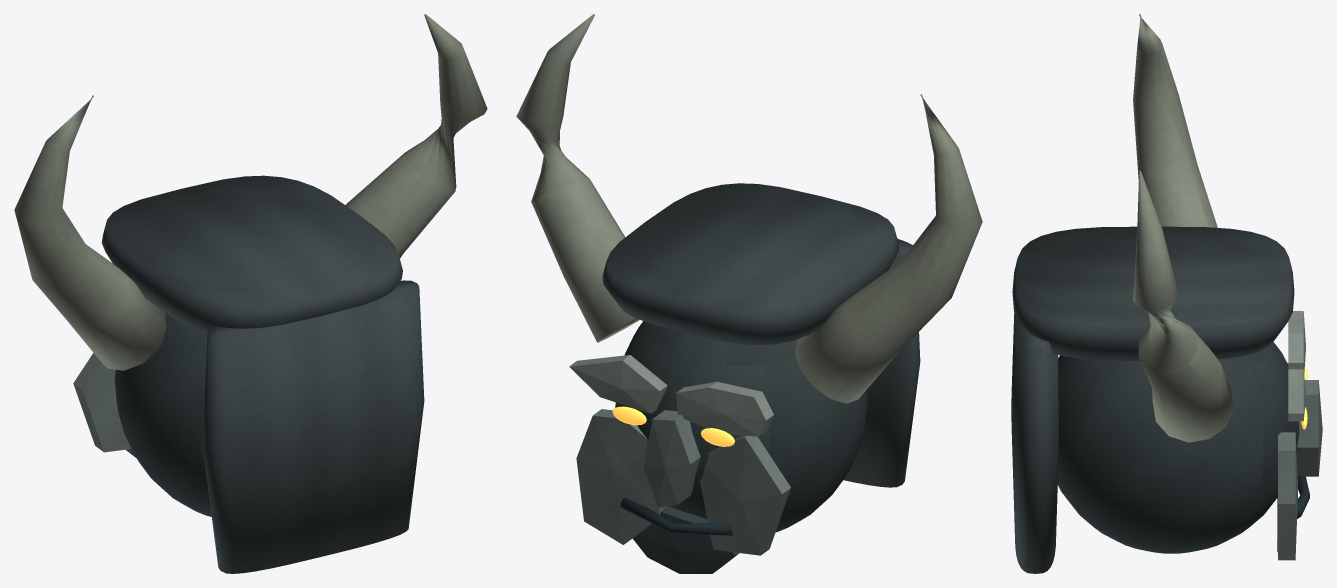
File: head_lod0.glb
3 views of the same model, side by side, from view 1: azimuth 30°, elevation 25°; view 2: azimuth 150°, elevation 25°; view 3: azimuth 270°, elevation 25° (orthographic). The views are drawn at different scales.
Parts seen in each view (by area): view 1: dormin_head_LOD0; view 2: dormin_head_LOD0; view 3: dormin_head_LOD0.
Boxes of the visible parts, left/top/right/bottom form: dormin_head_LOD0: left=14, top=14, right=487, bottom=573; dormin_head_LOD0: left=516, top=14, right=982, bottom=573; dormin_head_LOD0: left=1011, top=14, right=1322, bottom=573.
Bounding box in the file's own units: 4.28 × 4.11 × 2.56.
7 materials, 5 textured.
